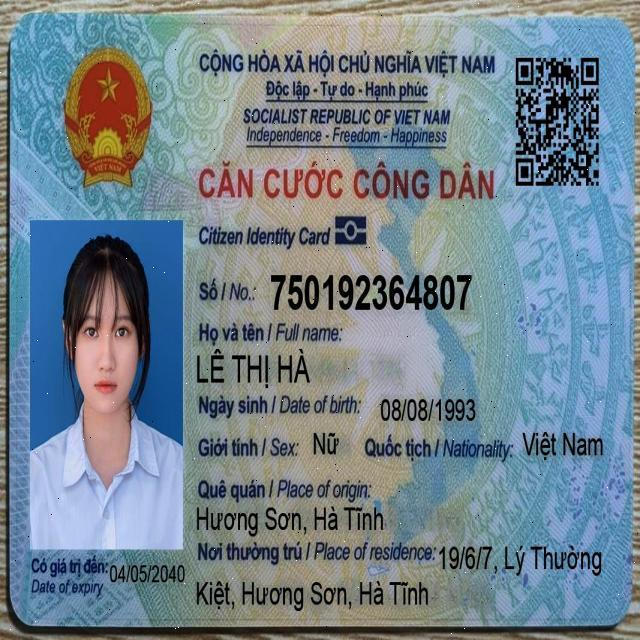current_place: (194, 576, 432, 614), (436, 539, 604, 581)
dob: (376, 391, 479, 426)
expire_date: (107, 560, 188, 587)
gender: (308, 426, 343, 459)
id: (266, 267, 476, 316)
name: (194, 343, 314, 393)
nationality: (520, 427, 607, 466)
origin_place: (194, 503, 386, 540)
qr: (511, 53, 605, 194)
